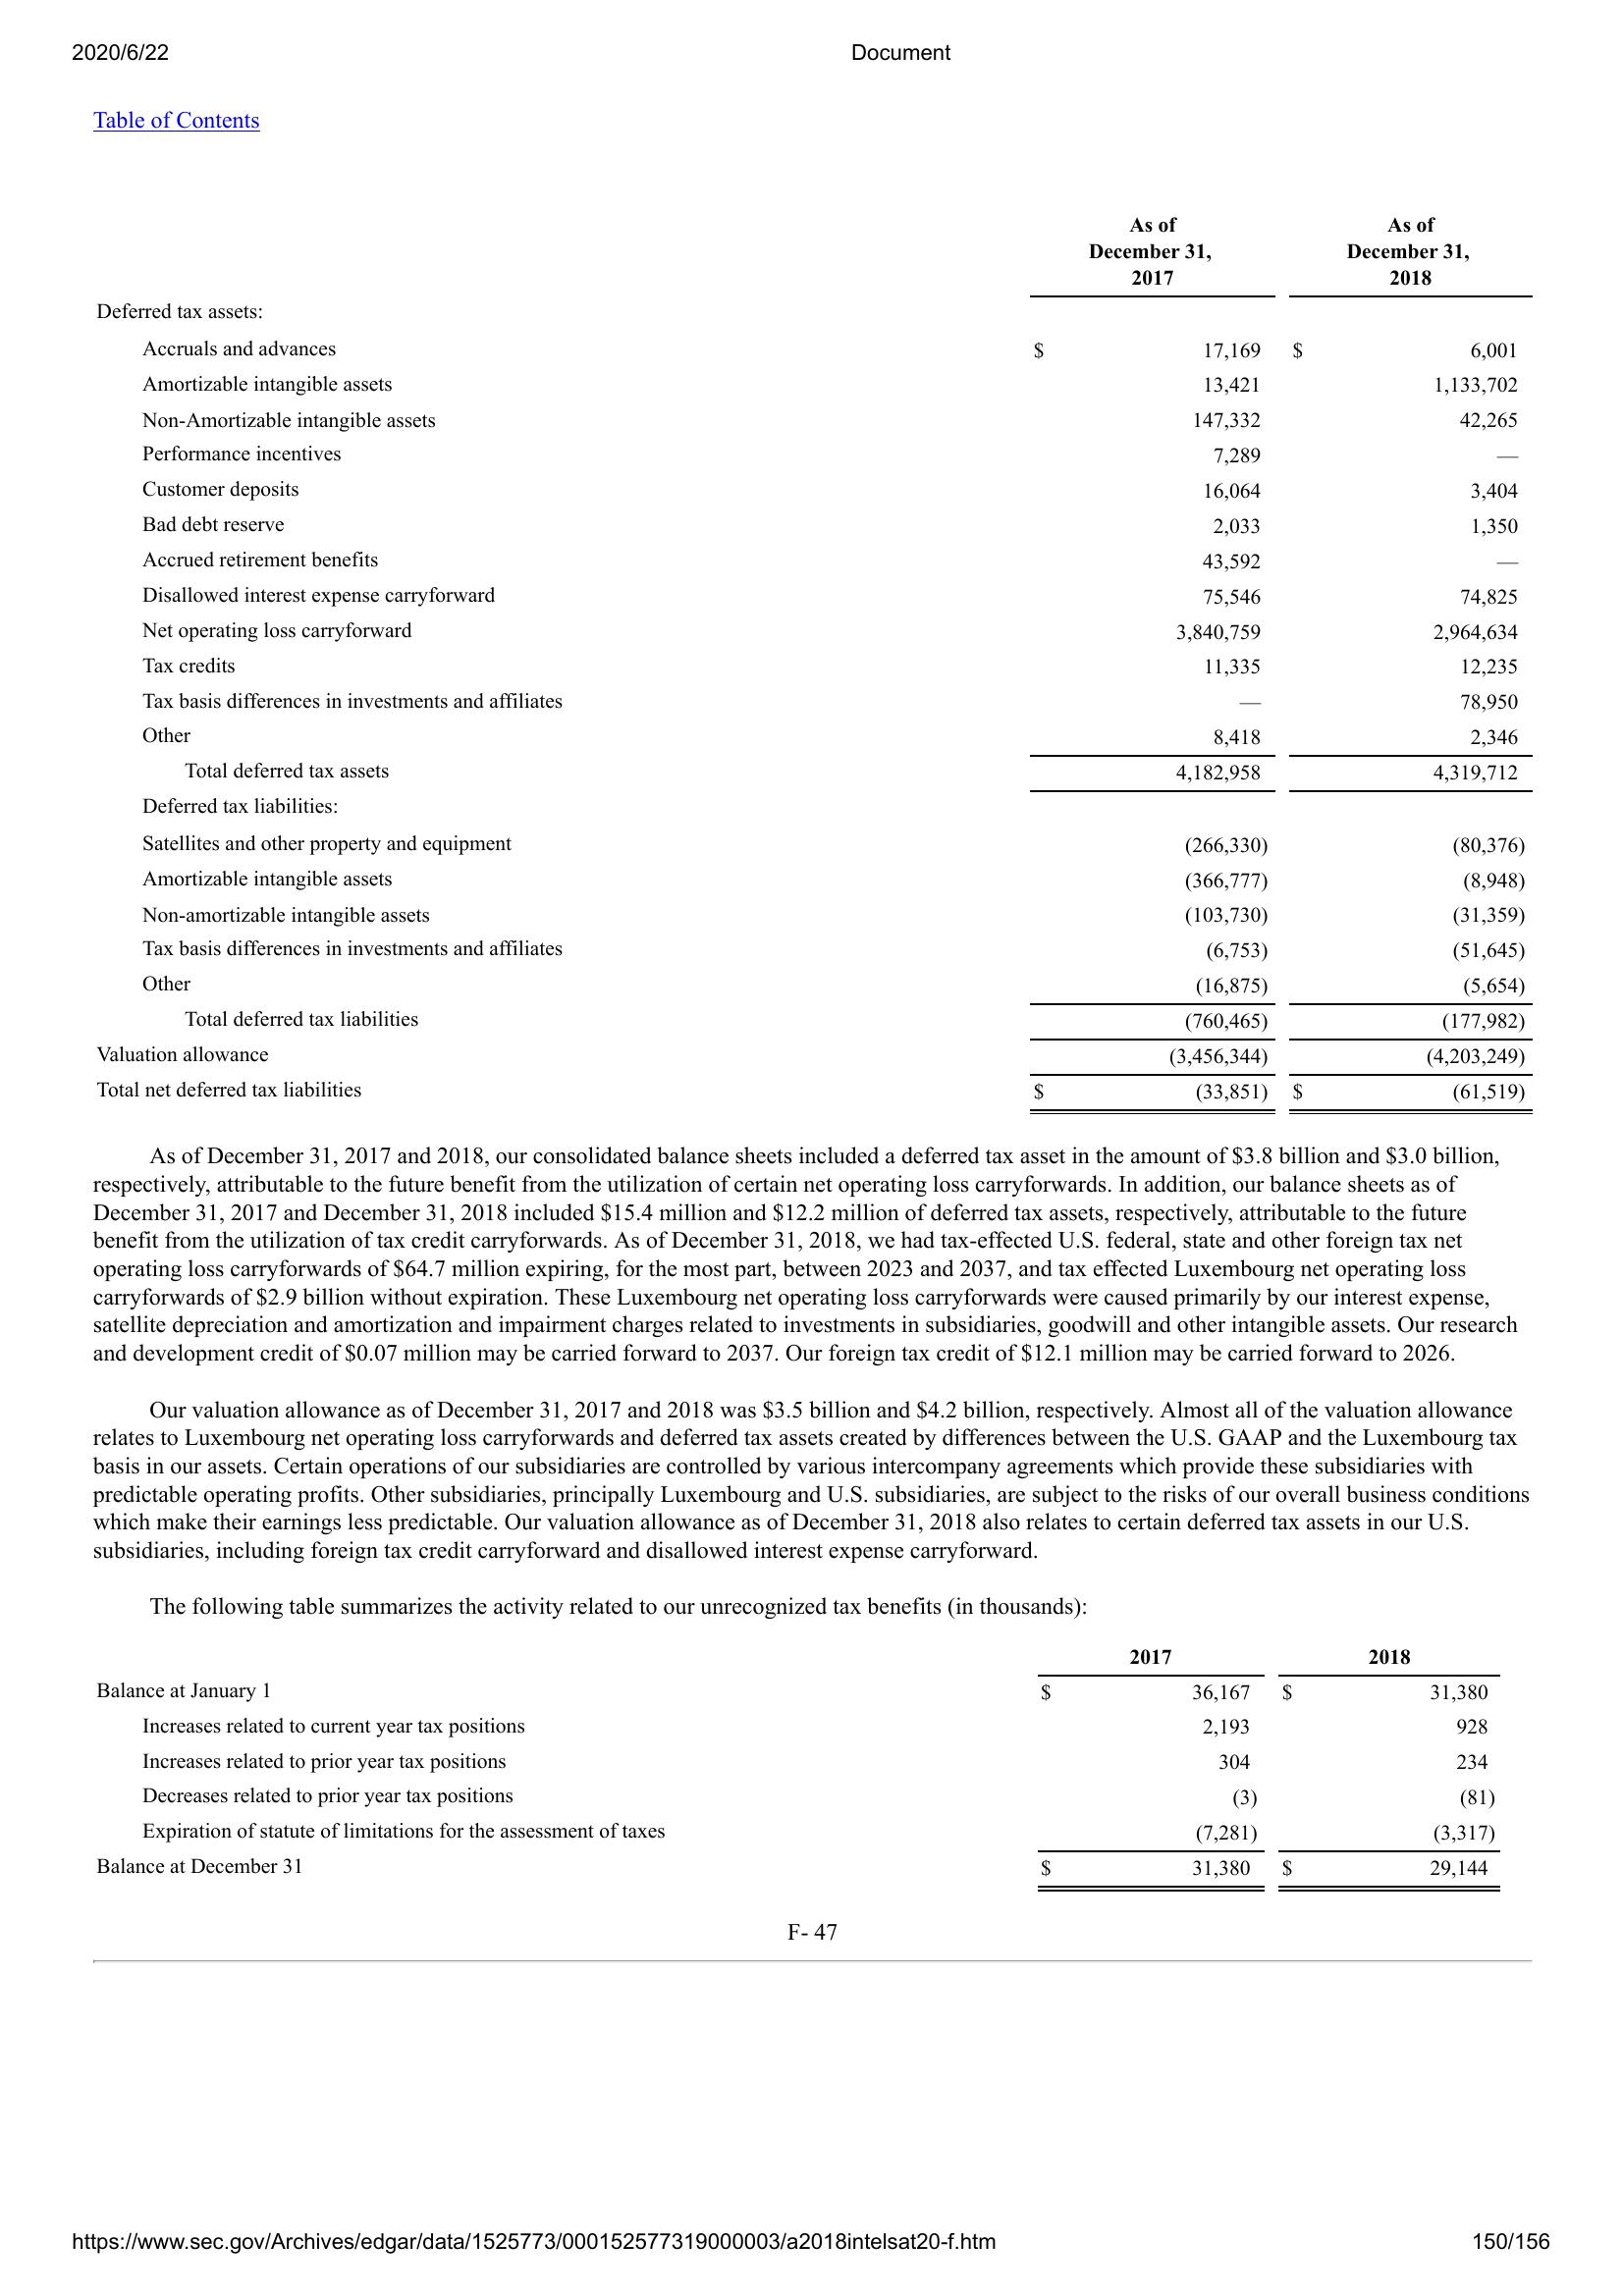table: (84, 209, 1542, 1122), (88, 1648, 1512, 1899)
